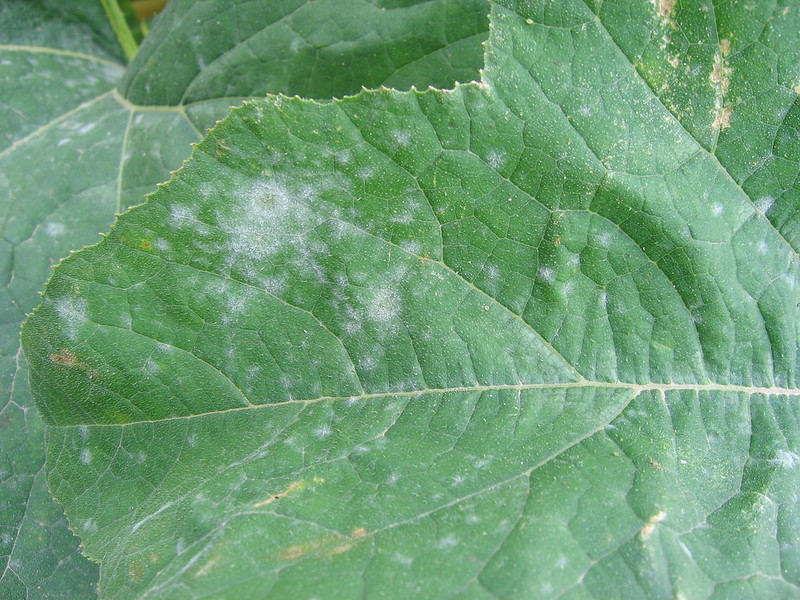Cucumber_PowderyMildew: (163, 180, 657, 399)
